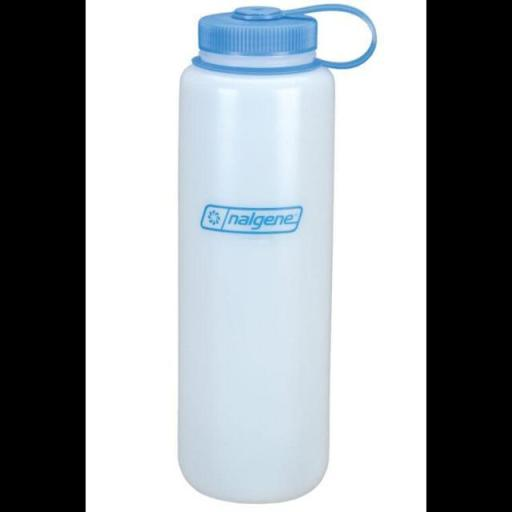bottle: (177, 6, 336, 508)
